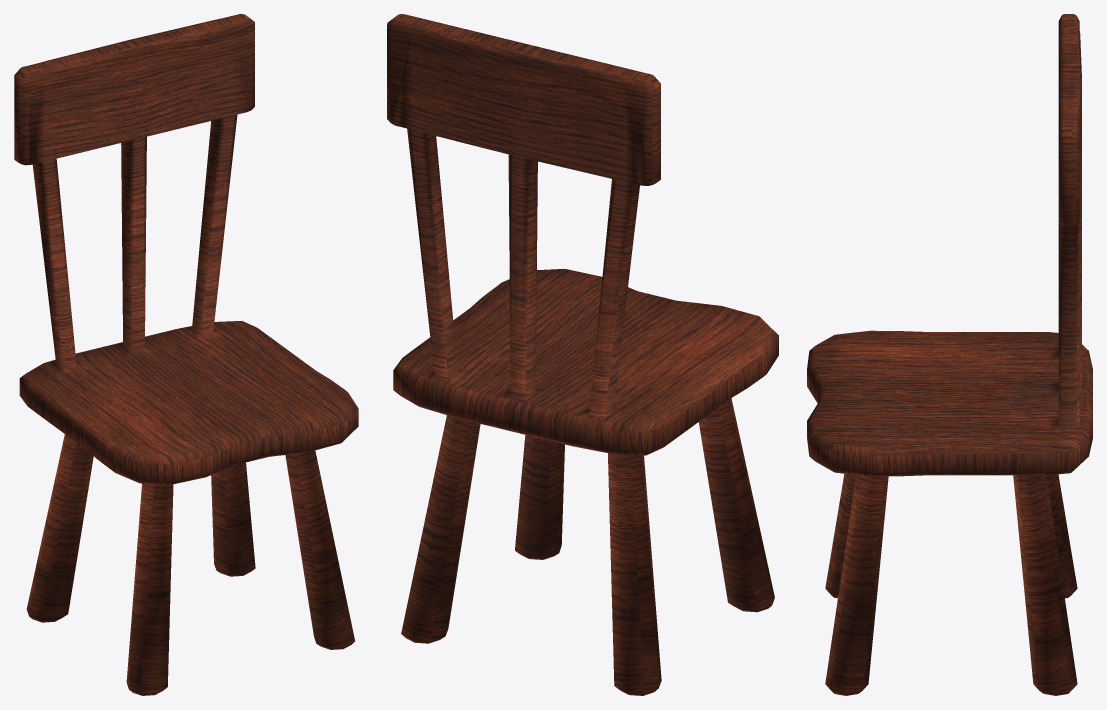
Rendered from chair.glb.
3 views of the same model, side by side, from view 1: azimuth 30°, elevation 25°; view 2: azimuth 150°, elevation 25°; view 3: azimuth 270°, elevation 25° (orthographic). The views are drawn at different scales.
Parts seen in each view (by area): view 1: Cube; view 2: Cube; view 3: Cube.
Part boxes in pixels (x1,y1,x2,y2): Cube: (14,14,358,695); Cube: (387,14,778,695); Cube: (807,14,1092,695).
Bounding box in the file's own units: 1.23 × 2.68 × 1.22.
1 material, 1 textured.
